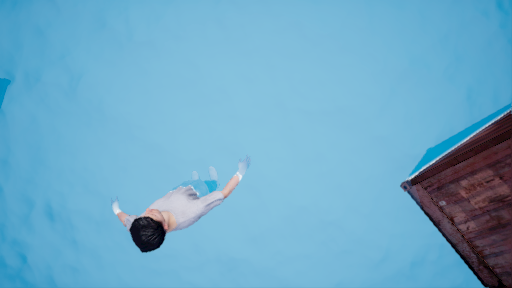person: (118, 155, 253, 250)
